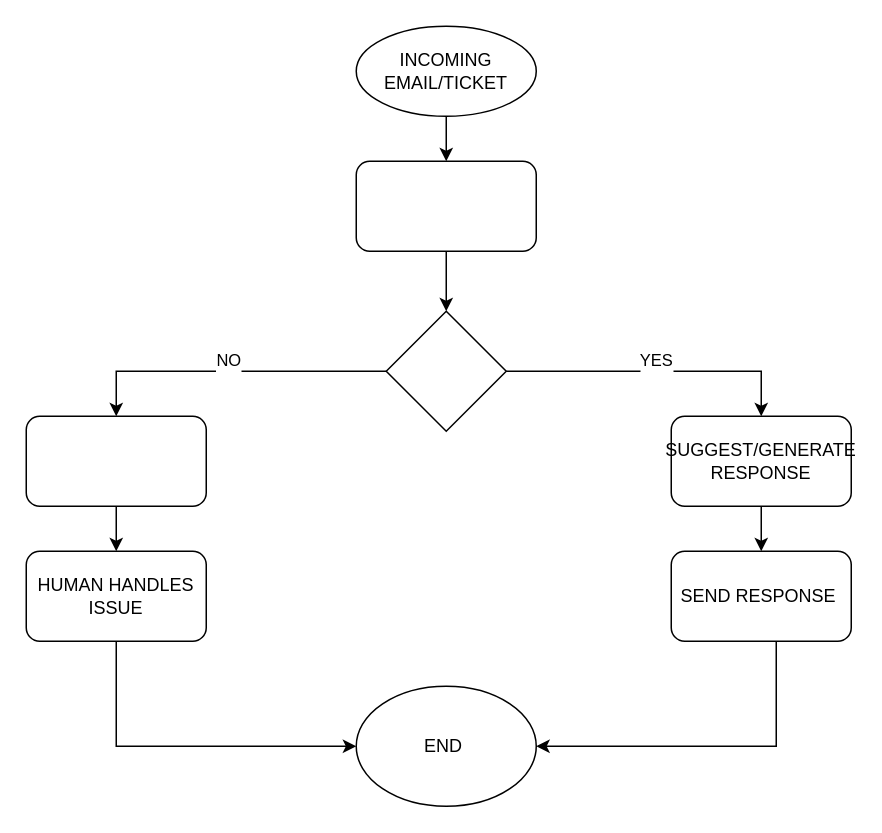
This 882x833 diagram has some shape labels left out. Each missing label, with the box of its shape:
AI ANALYZES AND CATEGORIES: (355, 160, 536, 251)
COMMON QUERY: (385, 310, 506, 431)
TO HUMAN AGENT: (25, 415, 206, 506)
